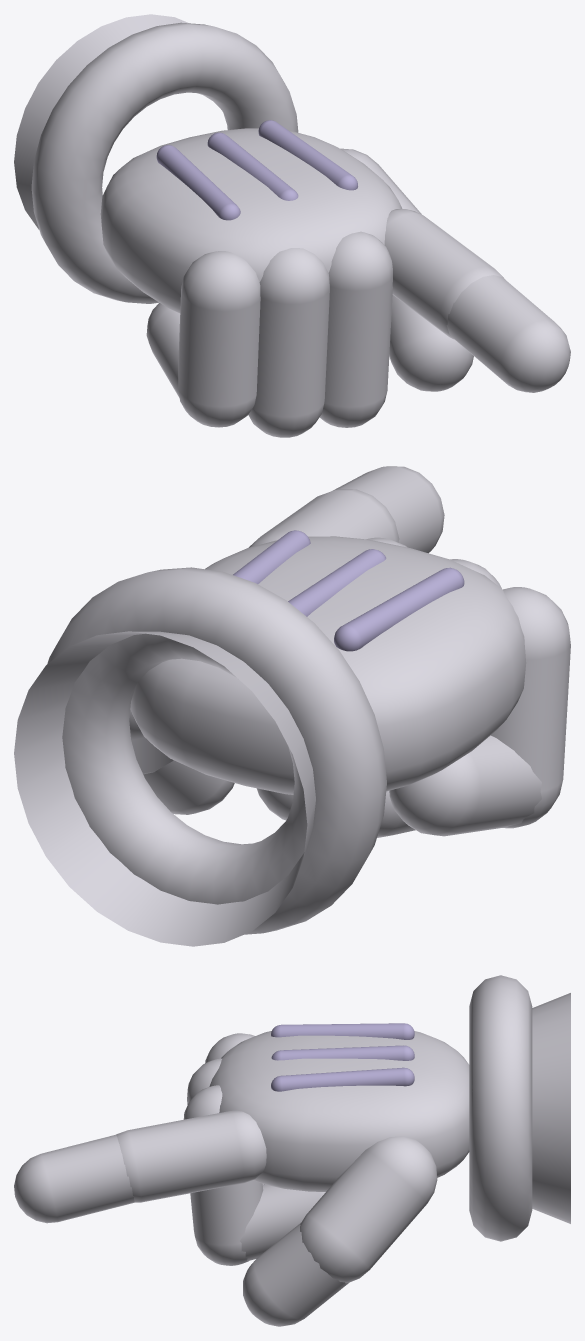
The model's file is Glove_Point.obj.
3 views of the same model, one above another, from view 1: azimuth 30°, elevation 25°; view 2: azimuth 150°, elevation 25°; view 3: azimuth 270°, elevation 25° (orthographic). The views are drawn at different scales.
Visible parts, largest first — view 1: Hand, Cuff, Seam; view 2: Cuff, Hand, Seam; view 3: Hand, Cuff, Seam.
Boxes of the visible parts, bbox=[...] form: Hand: bbox=[100, 128, 570, 437]; Cuff: bbox=[14, 14, 298, 303]; Seam: bbox=[156, 120, 357, 220]; Cuff: bbox=[14, 567, 386, 946]; Hand: bbox=[129, 466, 570, 837]; Seam: bbox=[233, 530, 464, 651]; Hand: bbox=[14, 1031, 469, 1326]; Cuff: bbox=[469, 975, 570, 1241]; Seam: bbox=[271, 1023, 414, 1091].
Bounding box in the file's own units: 0.1886 × 0.1714 × 0.3174.
